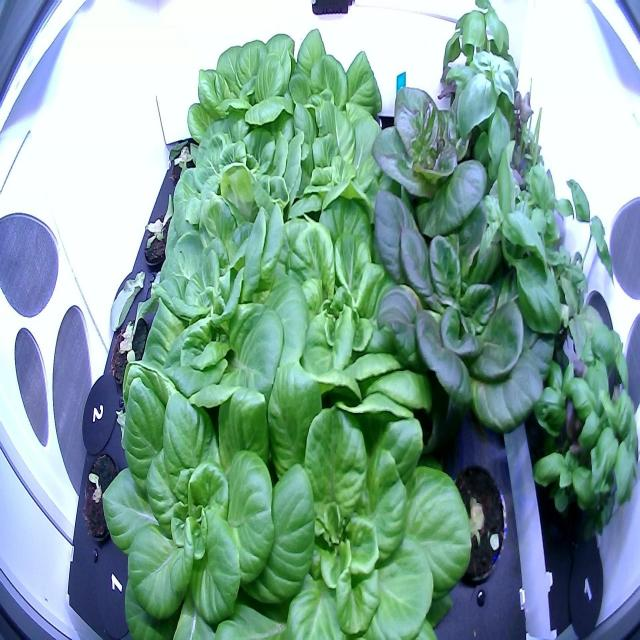Ready: (98, 358, 322, 640), (360, 165, 568, 442), (258, 393, 477, 639), (121, 196, 317, 434), (260, 196, 450, 437), (261, 92, 402, 260), (369, 70, 497, 243), (159, 105, 306, 255), (175, 30, 309, 161), (279, 17, 385, 159)
